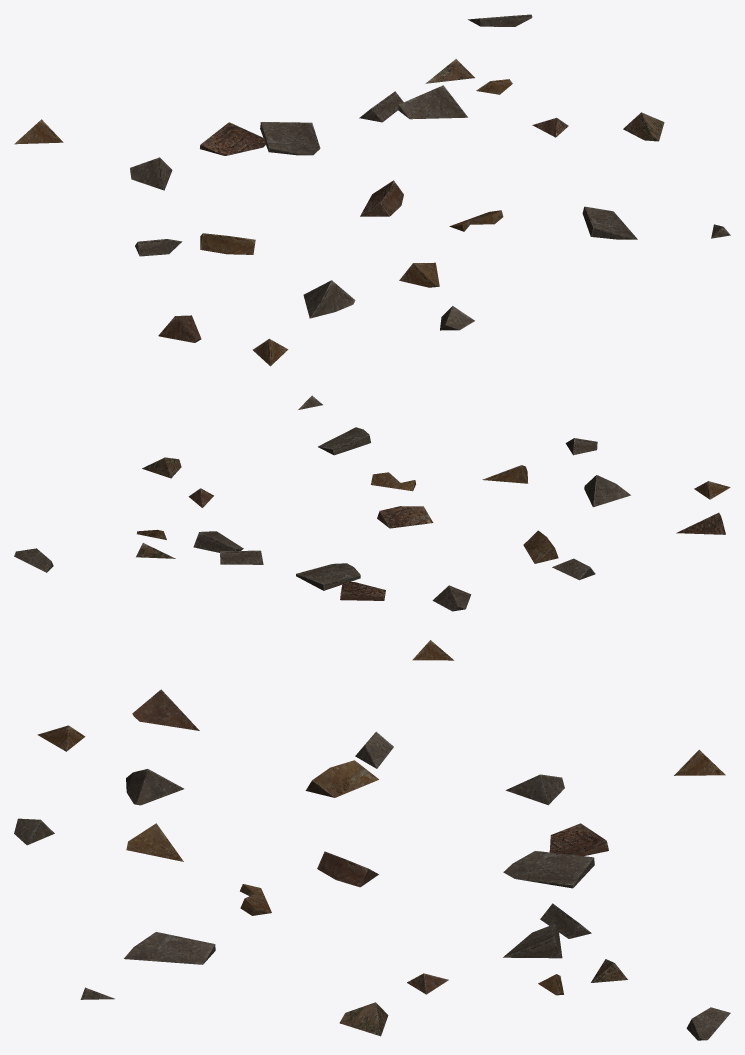
The model's file is debris_bricks_mx_2_0.glb.
3 renders of one model, top to bottom at view 1: azimuth 30°, elevation 25°; view 2: azimuth 150°, elevation 25°; view 3: azimuth 270°, elevation 25°, orthographic. The views are drawn at different scales.
Visible parts, largest first — view 1: debris_bricks_mx_2_0; view 2: debris_bricks_mx_2_0; view 3: debris_bricks_mx_2_0.
Part boxes in pixels (x1,y1,x2,y2): debris_bricks_mx_2_0: (14,14,730,366); debris_bricks_mx_2_0: (14,395,730,660); debris_bricks_mx_2_0: (14,689,730,1040).
Size of the model in its own units: 1.88 by 0.0701 by 1.69.
Materials: 1 (1 with a texture image).
